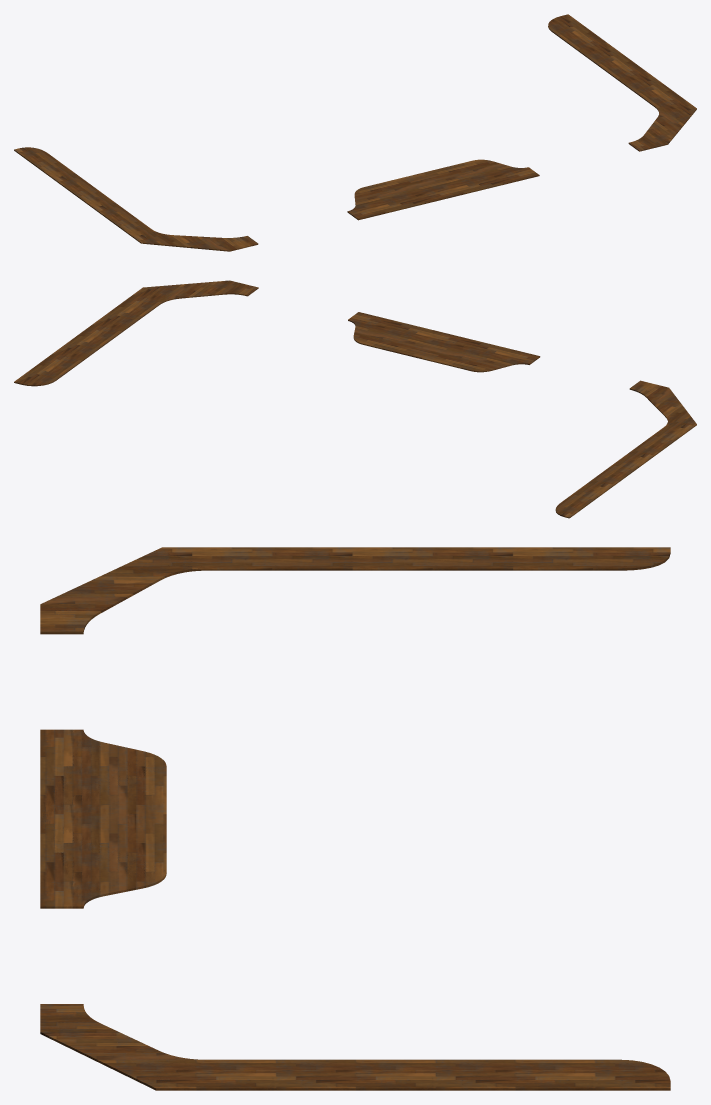
Rendered from EC_StepFloor_DisplayRoom.FBX.
3 renders of one model, top to bottom at view 1: azimuth 30°, elevation 25°; view 2: azimuth 150°, elevation 25°; view 3: azimuth 270°, elevation 25°, orthographic. The views are drawn at different scales.
Visible parts, largest first — view 1: EC_StepFloor_DisplayRoom; view 2: EC_StepFloor_DisplayRoom; view 3: EC_StepFloor_DisplayRoom.
Part boxes in pixels (x1,y1,x2,y2): EC_StepFloor_DisplayRoom: (14,14,696,251); EC_StepFloor_DisplayRoom: (14,280,696,518); EC_StepFloor_DisplayRoom: (40,547,670,1090).
Bounding box in the file's own units: 14636 × 27 × 7203.
